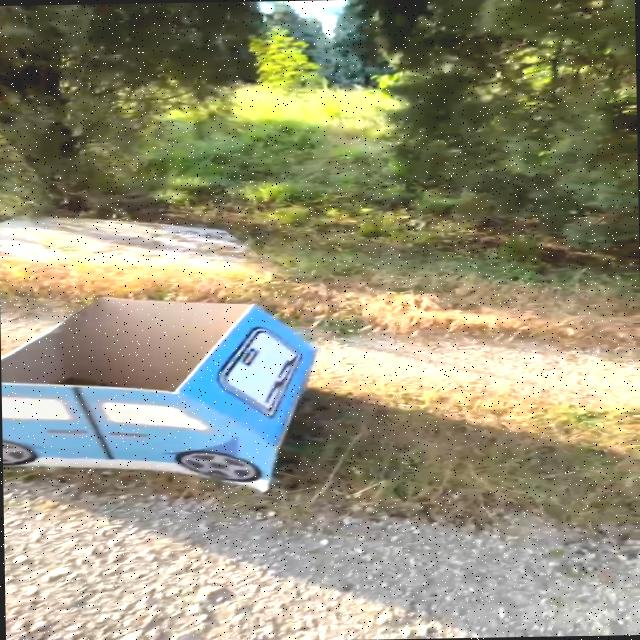blue_car: (0, 252, 323, 528)
